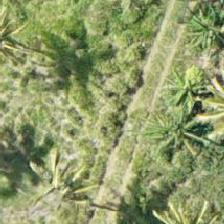coconut_tree: (12, 147, 102, 223)
